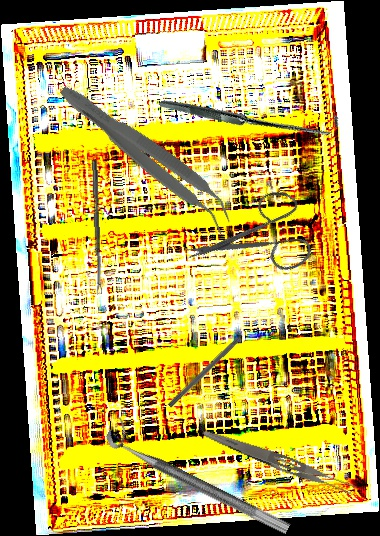Dressing Forceps: (199, 426, 359, 499)
Fixation Ring: (103, 415, 299, 536)
Hook Surgical: (158, 21, 343, 206), (167, 324, 255, 409)
Iris Scissors: (182, 165, 332, 317)
Surgical Spoon: (91, 159, 102, 295)
Tissue Forceps: (49, 77, 242, 236)
